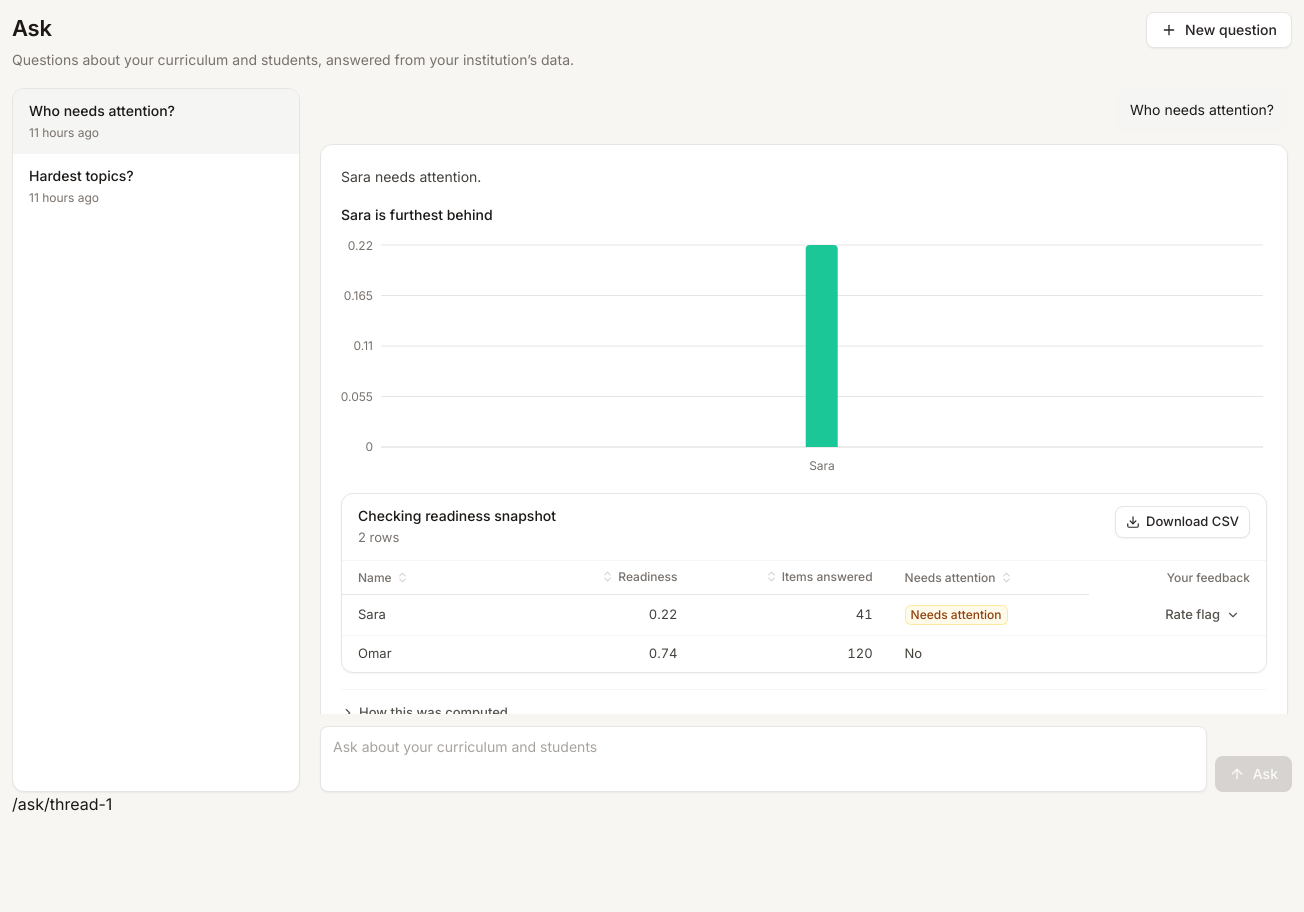
reopening a thread › switches from one thread to another without mixing them
This screenshot has width=1304, height=912.
expect the text "Sara needs attention." is shown: met, box [341, 168, 481, 185]
Click the button "Hardest topics? 11 hours ago" at (81, 176), box [13, 154, 299, 218]
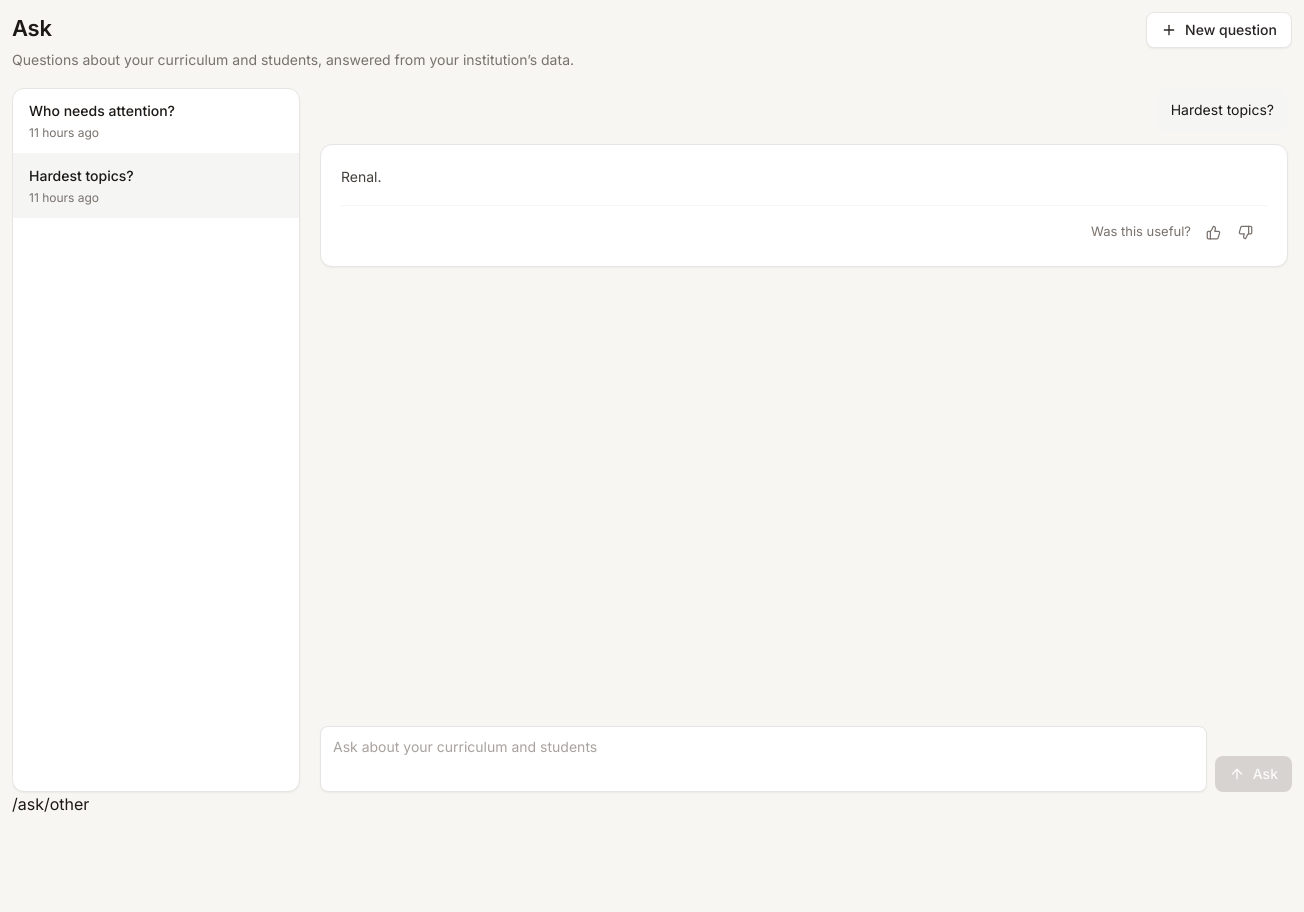
expect the text "Renal." is shown: met, box [341, 168, 382, 185]
expect the text "Sara needs attention." is gone: met
expect the table is gone: met
